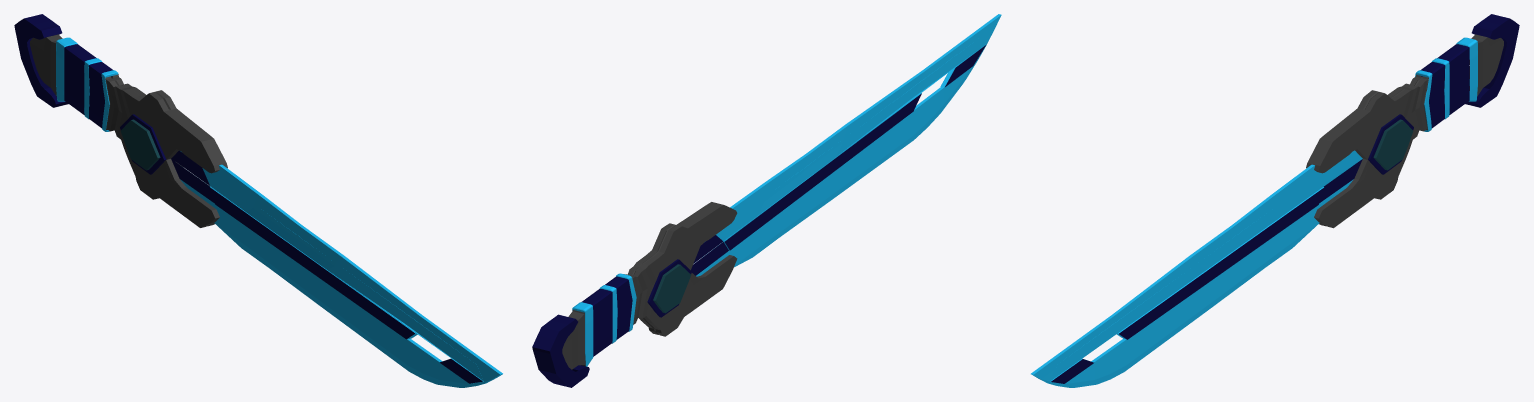
File: SCI-FI Sword.glb
3 renders of one model, left to right at view 1: azimuth 30°, elevation 25°; view 2: azimuth 150°, elevation 25°; view 3: azimuth 330°, elevation 25°, orthographic. The views are drawn at different scales.
Visible parts, largest first — view 1: Cube.021; view 2: Cube.021; view 3: Cube.021.
Part boxes in pixels (bbox=[...]): Cube.021: bbox=[14, 14, 502, 387]; Cube.021: bbox=[532, 14, 1001, 387]; Cube.021: bbox=[1031, 14, 1519, 387].
Bounding box in the file's own units: 0.124 × 0.5438 × 4.56.
